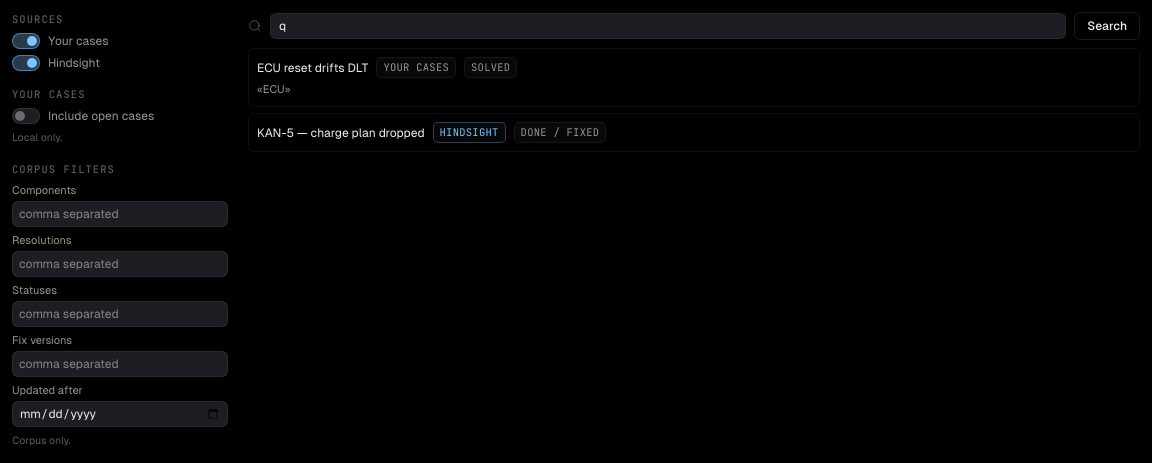
Test: RelatedHistoryExplorer › provider selection reaches the outgoing request › unchecking every source sends providerIds: [] and drops every hit shown
Expected: the text "ECU reset drifts DLT" is shown, [257,60,368,76]
Expected: the text "KAN-5 — charge plan dropped" is shown, [257,125,424,141]
Click the switch named "Search Your cases". click: (120, 41)
box: [12,33,228,49]
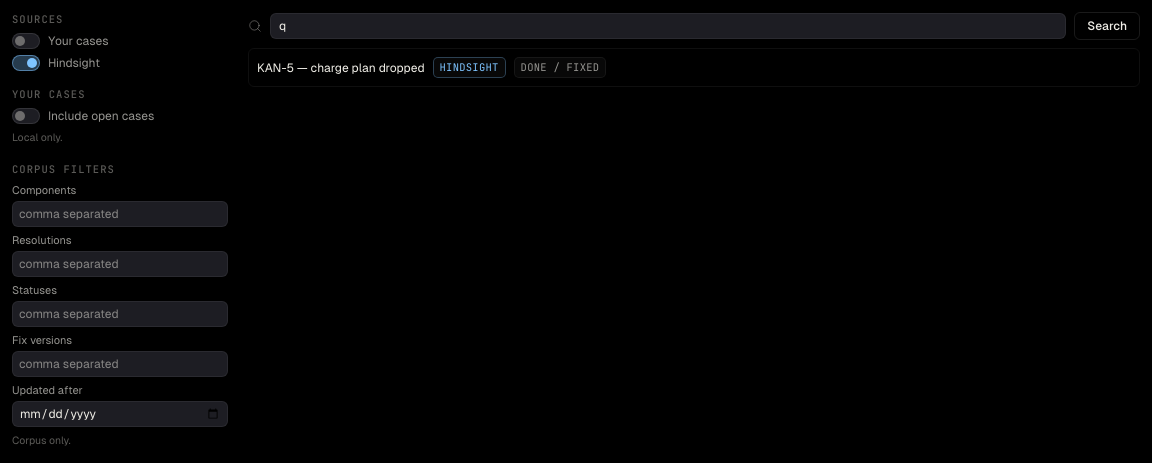
Click the switch named "Search Hindsight". click: (120, 63)
box: [12,55,228,71]
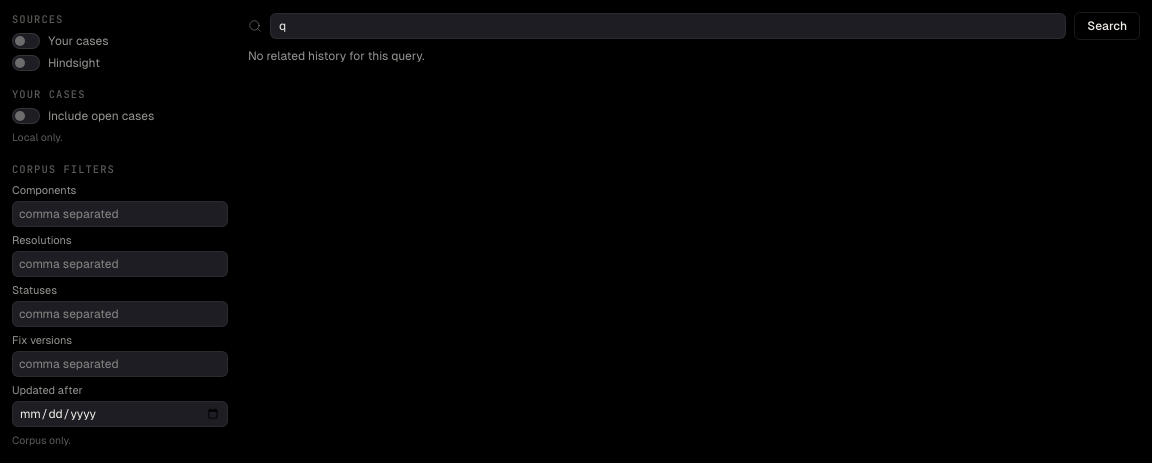
Expected: the button "ECU reset drifts DLT" is not shown
Now the button "charge plan dropped" is gone
